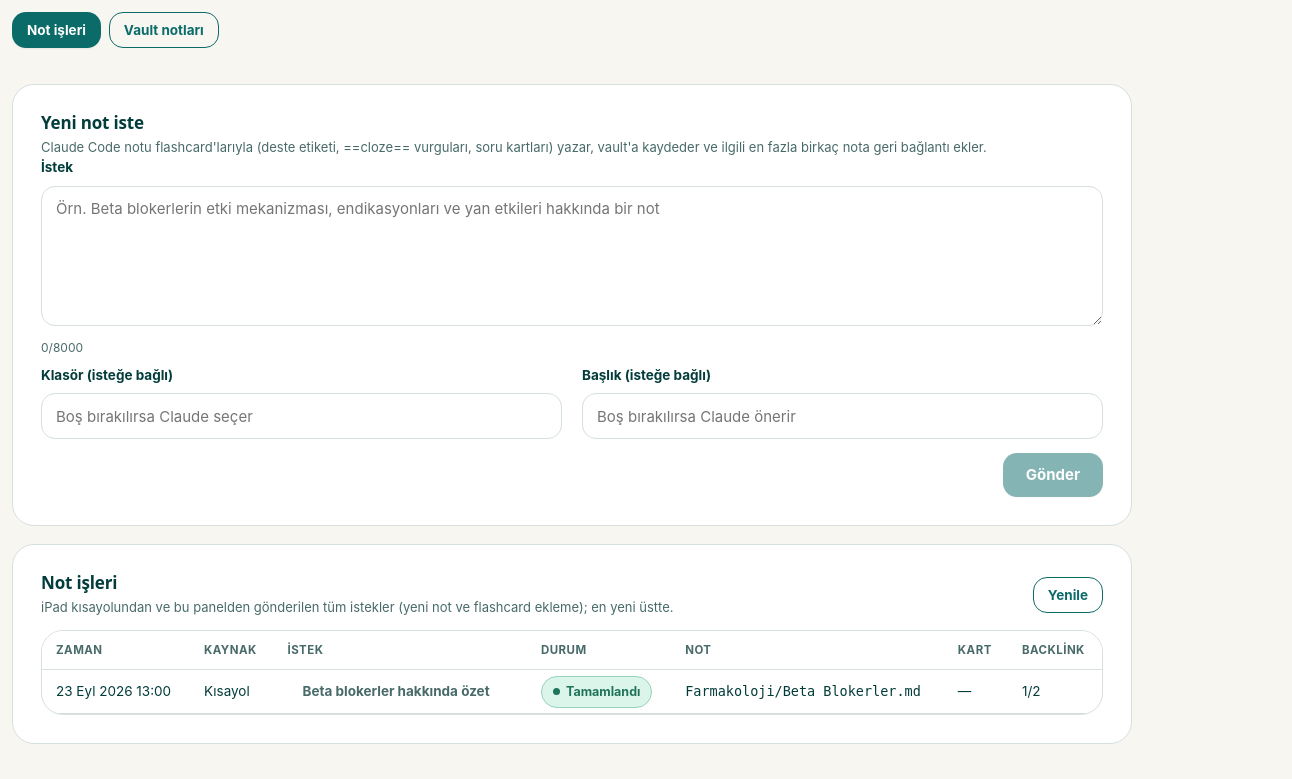
Test: AdminVault › queues a prompt and shows it at the top
Replace the text in the text box labelled "İstek" with "  Aritmiler ". click: [572, 256]
box: [41, 186, 1103, 326]
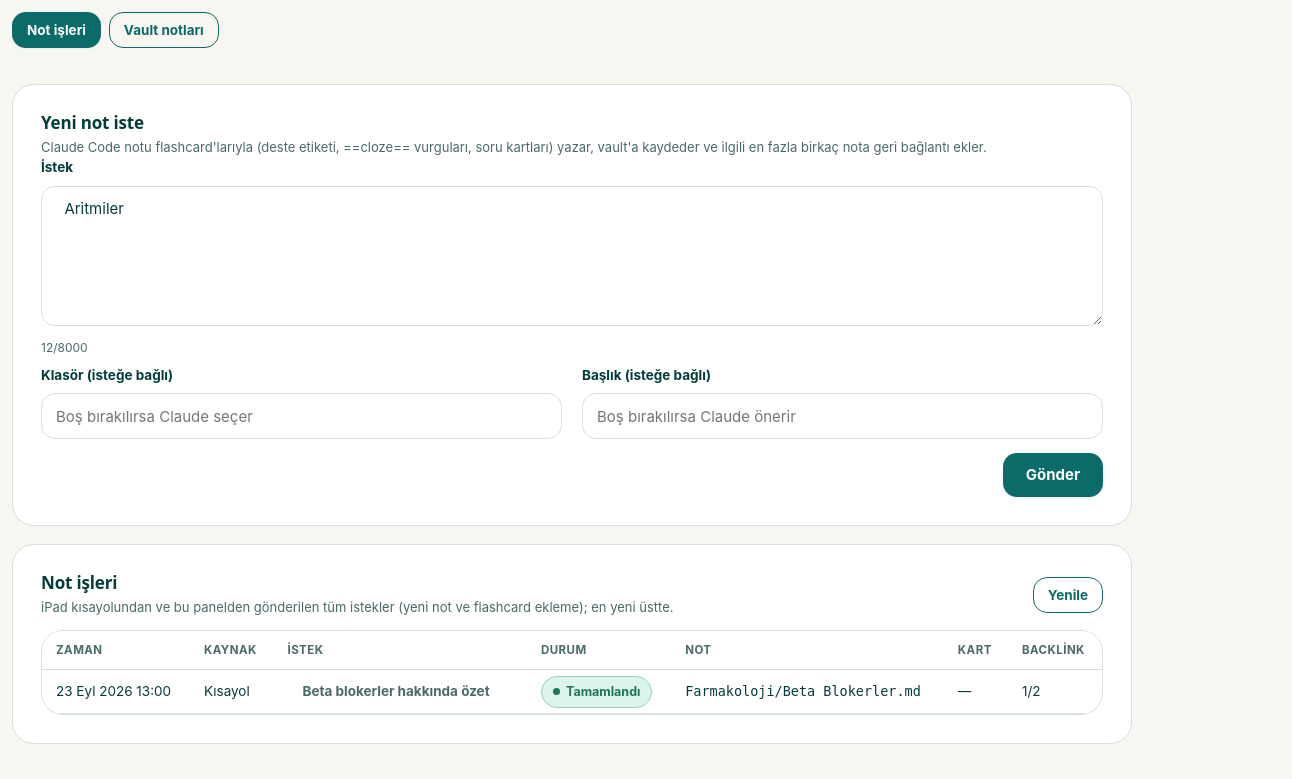
Type "Kardiyoloji" into the field labelled "Klasör (isteğe bağlı)". click: [302, 416]
box: [41, 393, 562, 439]
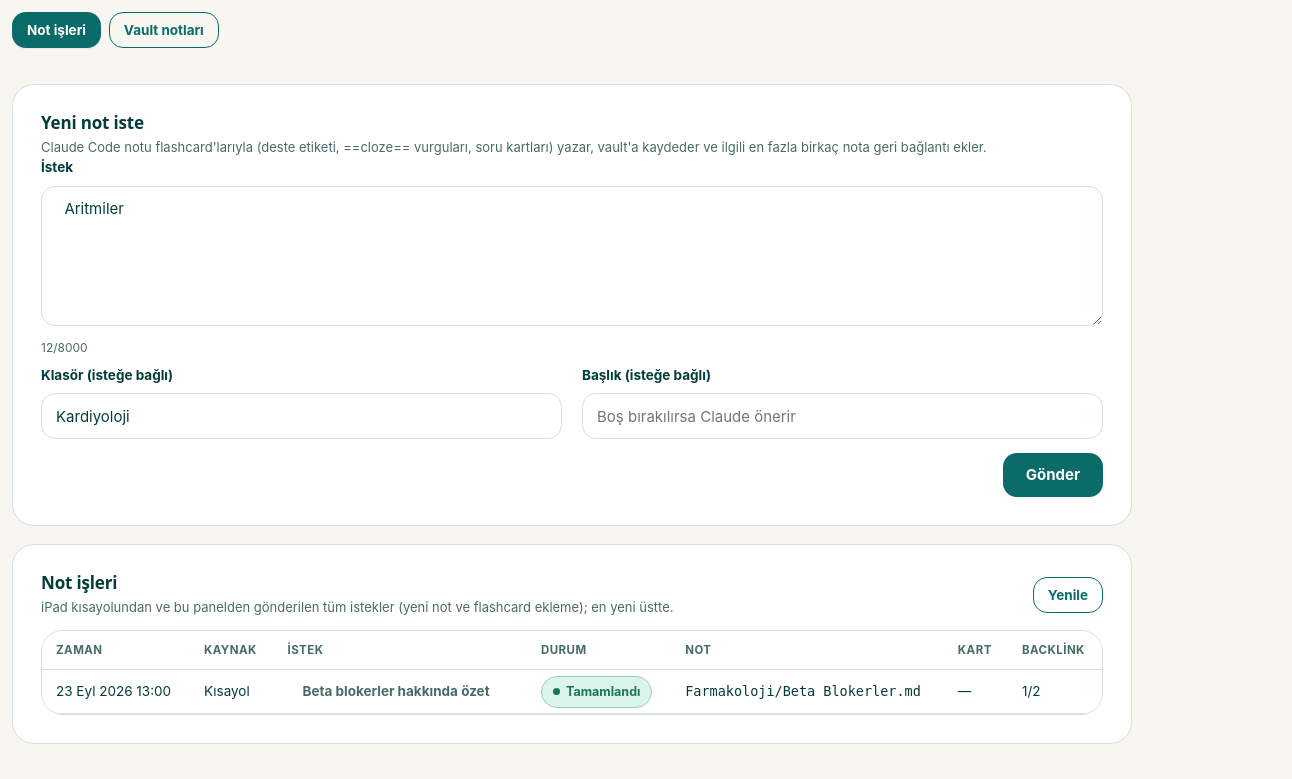
Click the button "Gönder". click: [1053, 475]
box: [1003, 453, 1103, 497]
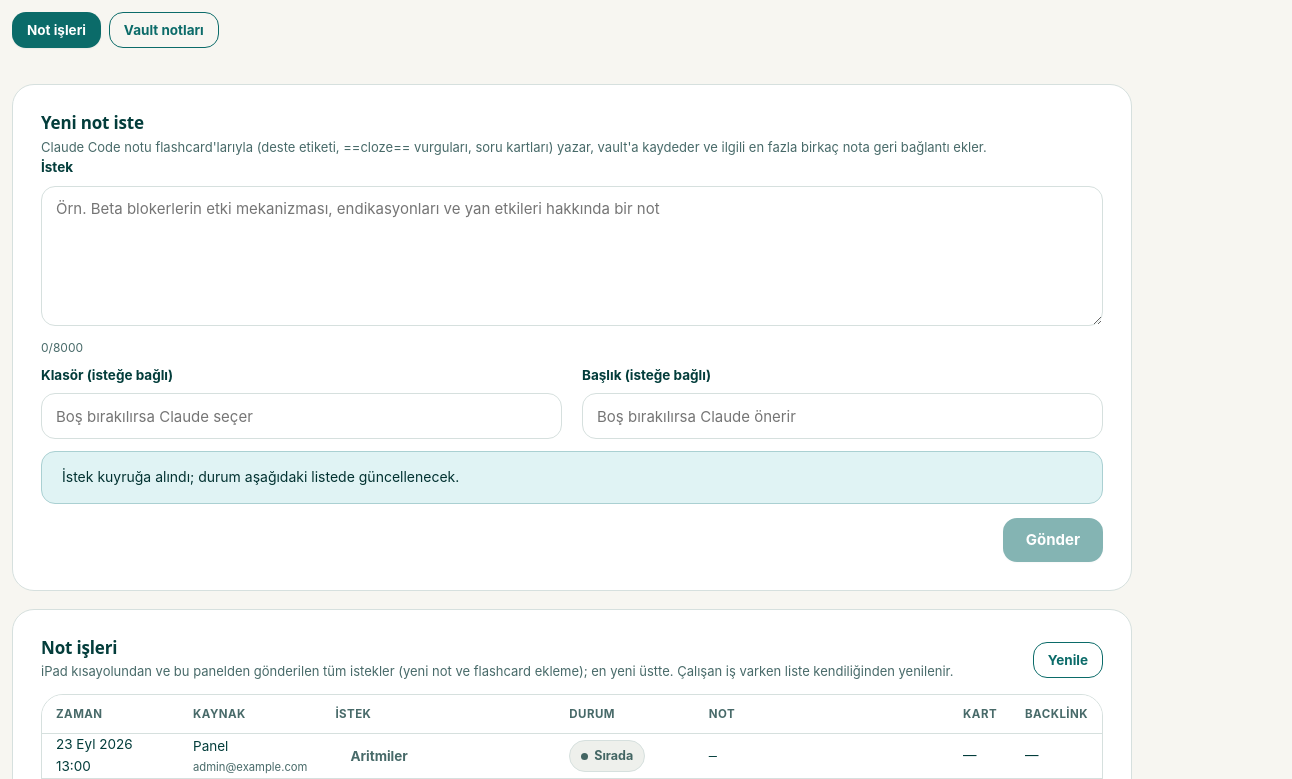
expect the text "Sırada" is shown: met, box [569, 740, 645, 772]
expect the text "admin@example.com" is shown: met, box [193, 758, 307, 776]
expect the text box labelled "İstek" is empty: met, box [41, 186, 1103, 326]
